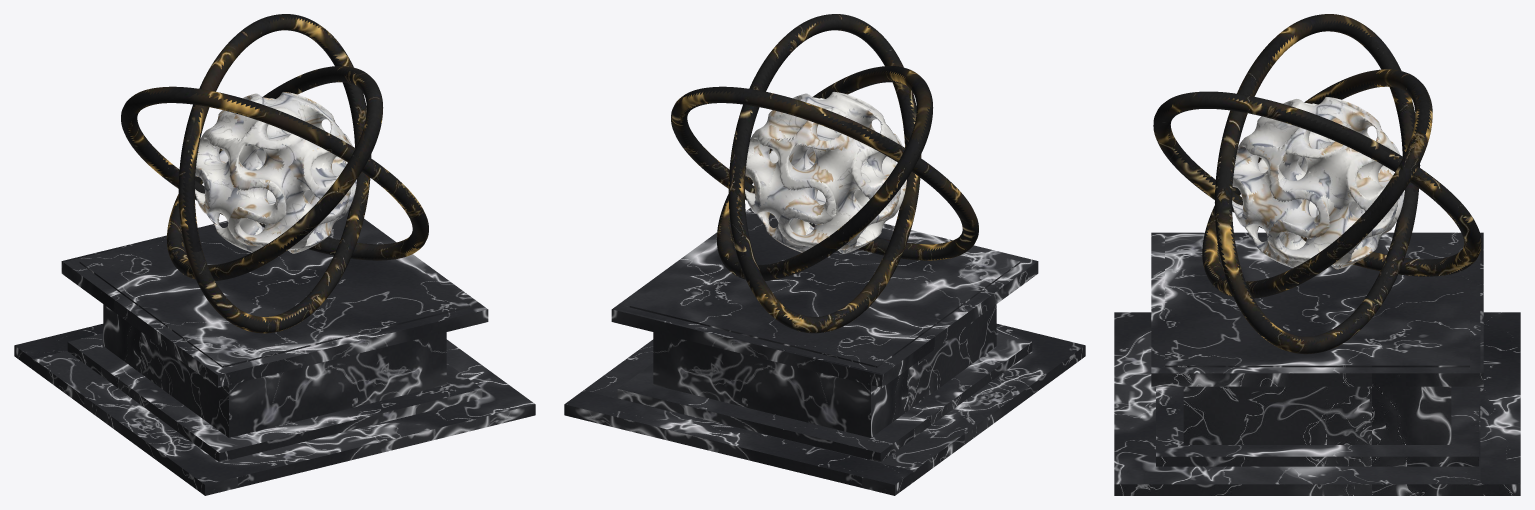
Rendered from gyroid-borromean-museum.glb.
3 views of the same model, side by side, from view 1: azimuth 30°, elevation 25°; view 2: azimuth 150°, elevation 25°; view 3: azimuth 270°, elevation 25° (orthographic). The views are drawn at different scales.
Parts seen in each view (by area): view 1: plinth, borromean_rings, gyroid_sphere; view 2: plinth, borromean_rings, gyroid_sphere; view 3: plinth, borromean_rings, gyroid_sphere.
Boxes of the visible parts, left/top/right/bottom form: plinth: left=14, top=208, right=535, bottom=495; borromean_rings: left=121, top=14, right=428, bottom=333; gyroid_sphere: left=195, top=92, right=356, bottom=253; plinth: left=564, top=208, right=1085, bottom=495; borromean_rings: left=671, top=14, right=978, bottom=333; gyroid_sphere: left=745, top=91, right=906, bottom=253; plinth: left=1114, top=232, right=1520, bottom=495; borromean_rings: left=1153, top=14, right=1481, bottom=354; gyroid_sphere: left=1232, top=97, right=1404, bottom=269.
Size of the model in its own units: 4.4 by 4.11 by 4.4.
Materials: 3 (3 with a texture image).
